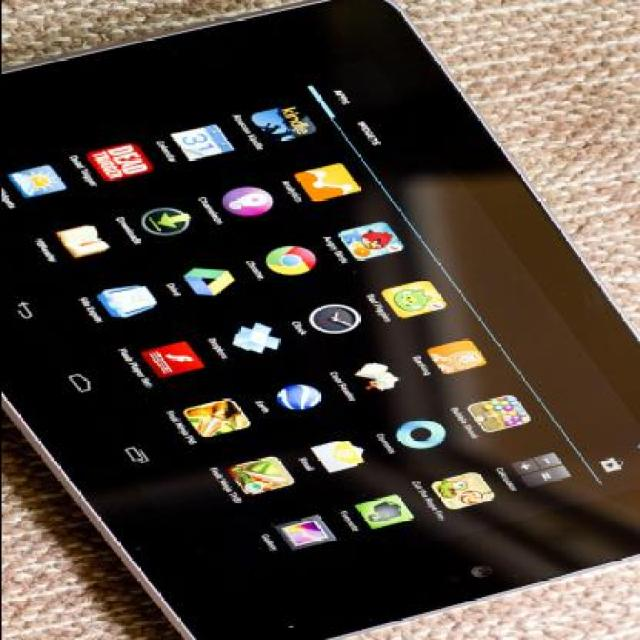tablet: (13, 0, 627, 638)
